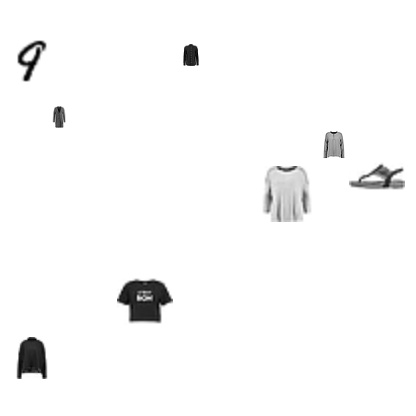9: (2, 29, 58, 85)
Coat: (48, 106, 70, 128)
Pullover: (259, 166, 315, 222), (11, 337, 53, 379)
Sandal: (349, 147, 405, 203)
Shirt: (320, 131, 348, 159), (180, 44, 202, 66)
T-shirt/top: (117, 273, 173, 329)
